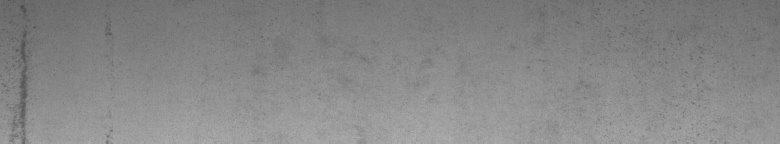hd: (4, 4, 32, 136)
